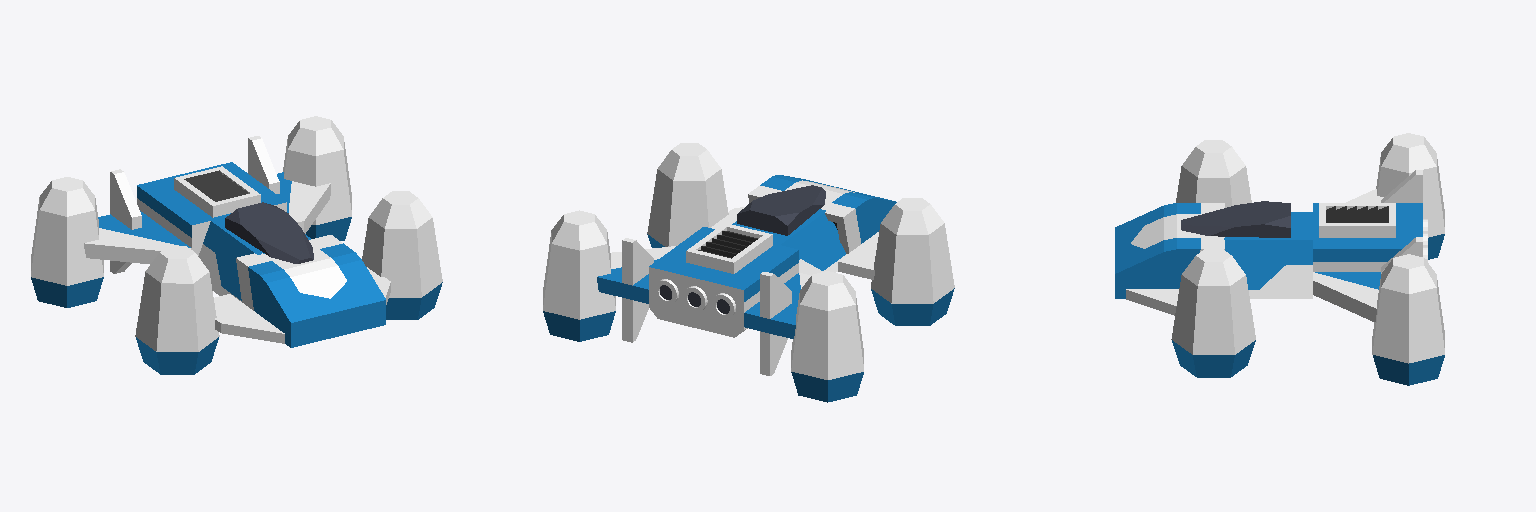
The model's file is drone_3.obj.
The picture shows the model from 3 angles: view 1: azimuth 30°, elevation 25°; view 2: azimuth 150°, elevation 25°; view 3: azimuth 270°, elevation 25°; orthographic projection.
Size of the model in its own units: 3.37 by 1.1 by 3.